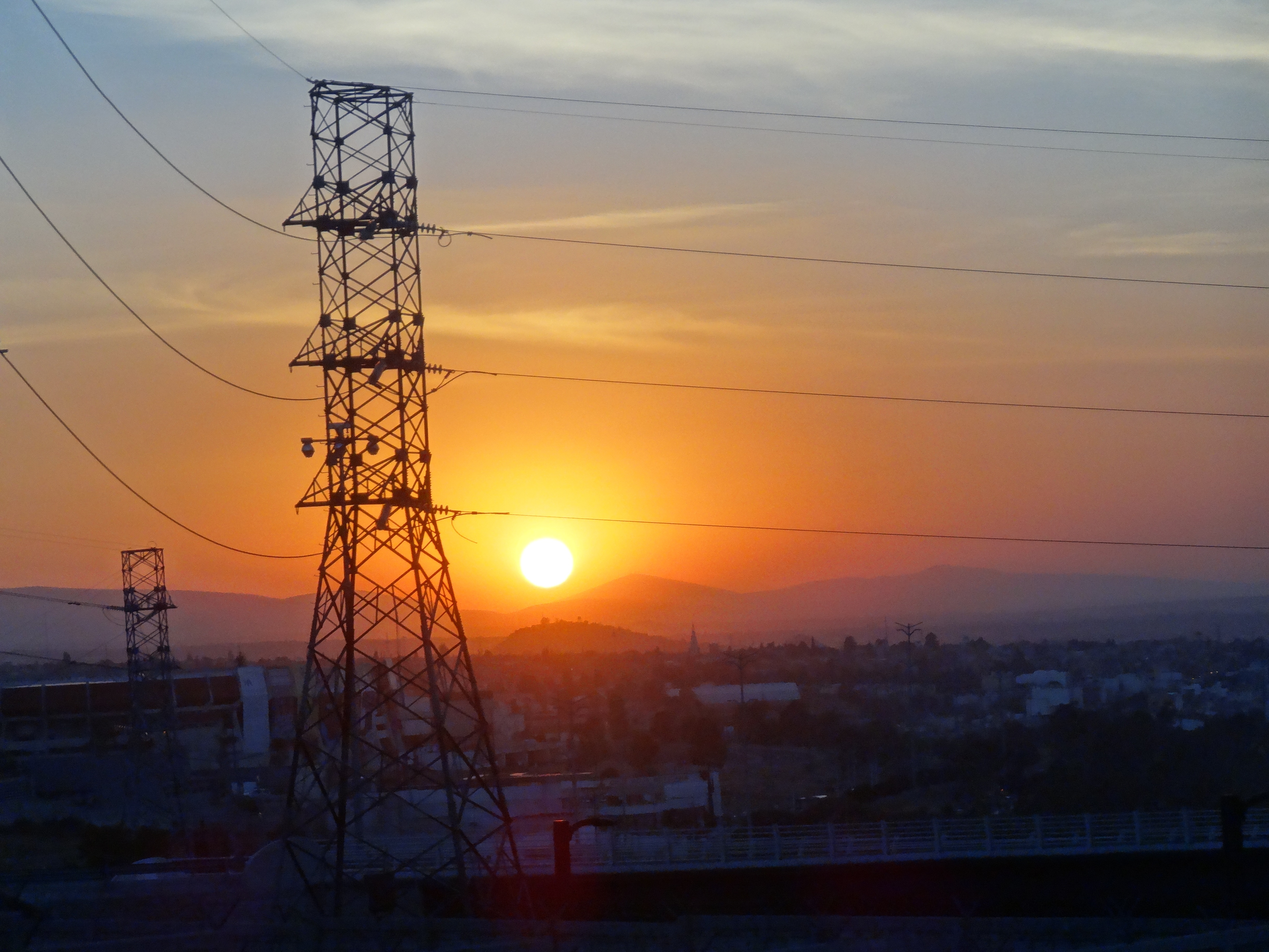insulator: (419, 353, 443, 378), (415, 218, 441, 239), (432, 495, 453, 518)
